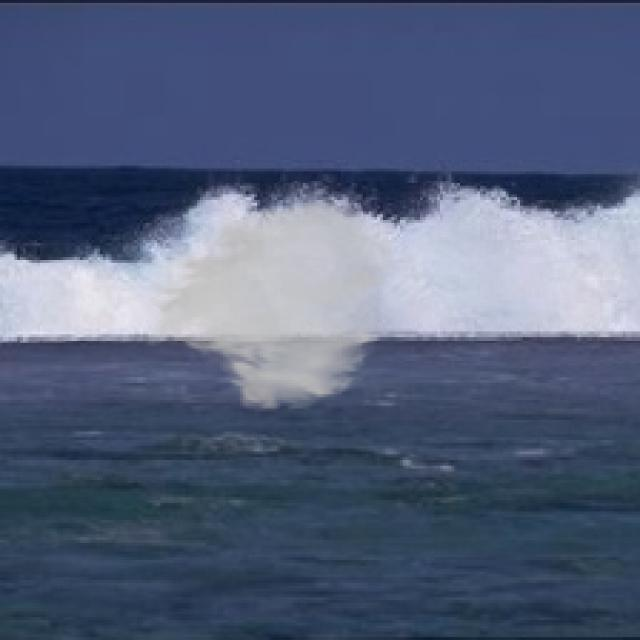smoke: (140, 197, 400, 414)
